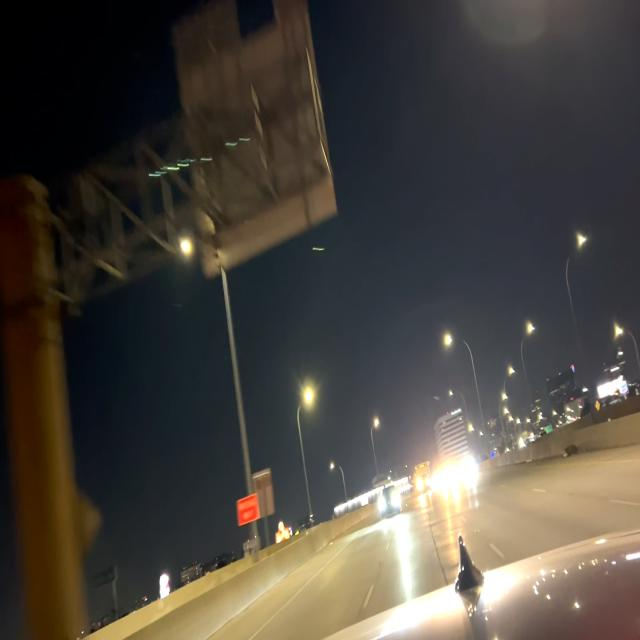back-of-sign: (171, 1, 337, 282)
